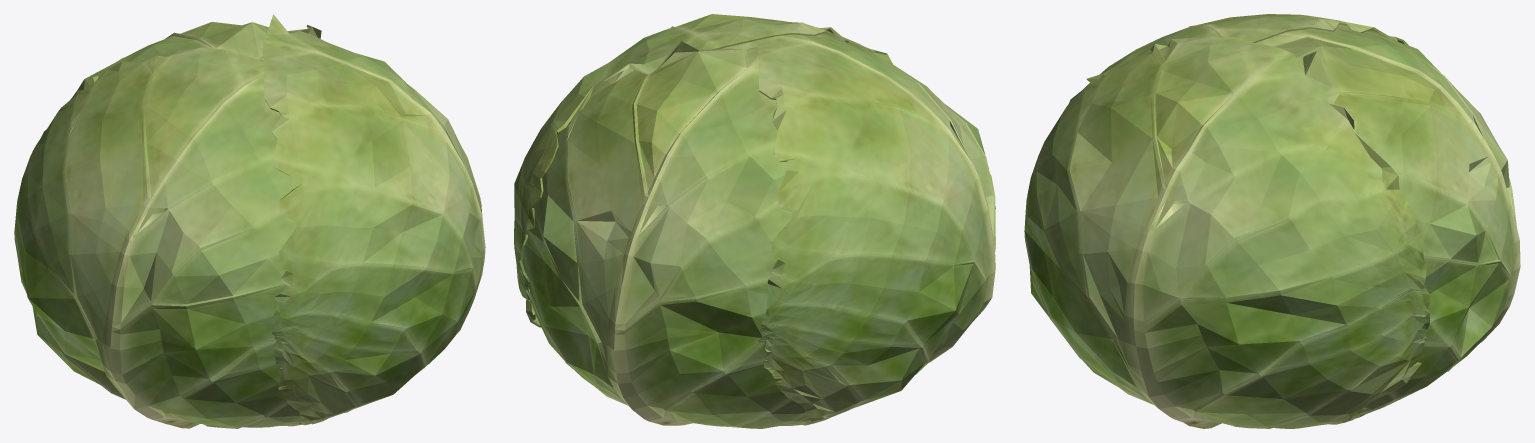
The model's file is cabbage_single.dae.
The picture shows the model from 3 angles, left to right: view 1: azimuth 30°, elevation 25°; view 2: azimuth 150°, elevation 25°; view 3: azimuth 270°, elevation 25°; orthographic projection. The views are drawn at different scales.
Parts seen in each view (by area): view 1: node; view 2: node; view 3: node.
Boxes of the visible parts, left/top/right/bottom form: node: left=14, top=14, right=485, bottom=428; node: left=514, top=14, right=995, bottom=428; node: left=1024, top=14, right=1520, bottom=428.
Bounding box in the file's own units: 115 × 93.2 × 114.
1 material, 1 textured.
